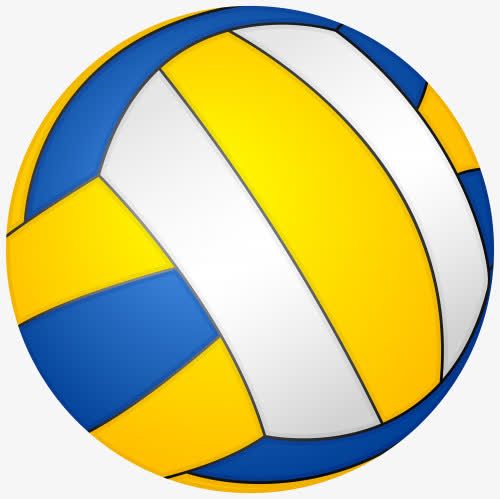ball: (5, 5, 495, 493)
